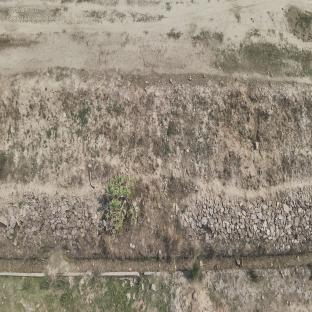rock_toe: (176, 187, 312, 247), (0, 186, 109, 256)
toe_drain: (0, 249, 312, 278)
vegetation: (107, 165, 145, 235)
